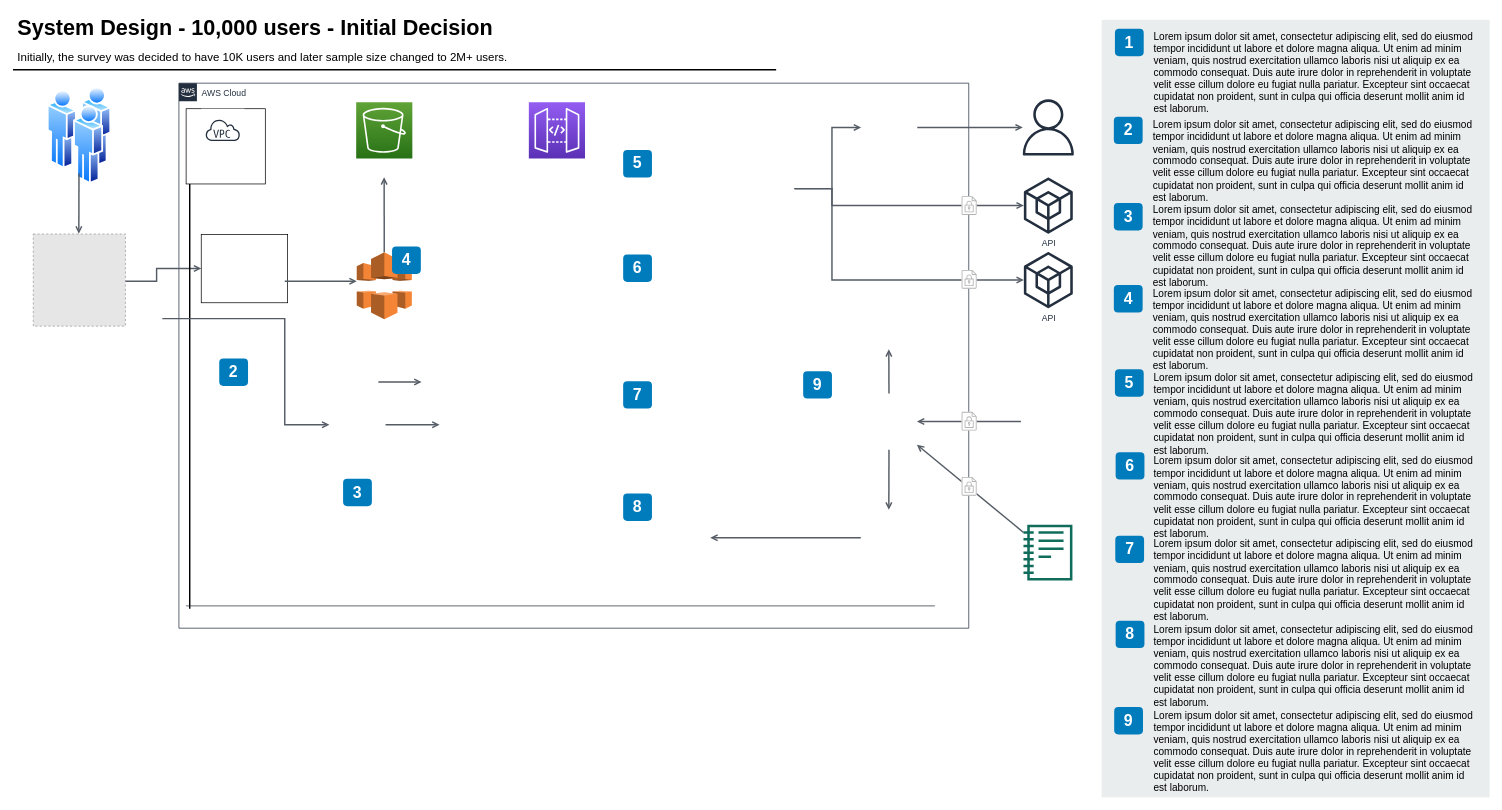
Image size: 1502x810. Some labels were removed from this diagram. Grey dashed boxes stand in for pictures. The shapes that lost their labels are listed below. From the top down, each one's centre as x and y in pixels, then its label:
At point (222, 130): "Virtual private cloud".
At point (383, 130): "Amazon S3".
At point (556, 130): "Amazon API Gateway".
At point (1048, 127): "User".
At point (244, 268): "Route53 DNS resolution and redirect to".
At point (1047, 552): "Research".
